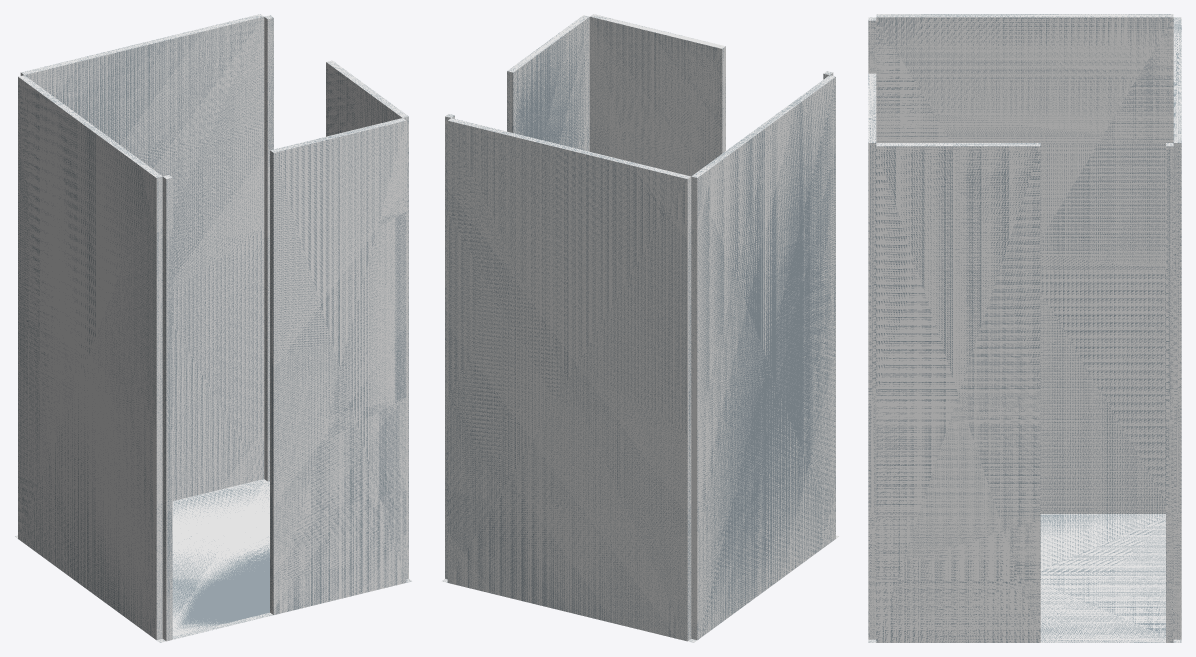
File: Raum5.fbx
3 renders of one model, left to right at view 1: azimuth 30°, elevation 25°; view 2: azimuth 150°, elevation 25°; view 3: azimuth 270°, elevation 25°, orthographic. The views are drawn at different scales.
Parts seen in each view (by area): view 1: Model; view 2: Model; view 3: Model.
Boxes of the visible parts, box(x1,y1,x2,y2) form: Model: box(15, 14, 412, 642); Model: box(441, 14, 838, 642); Model: box(868, 14, 1181, 642).
Size of the model in its own units: 2 by 3.5 by 2.
